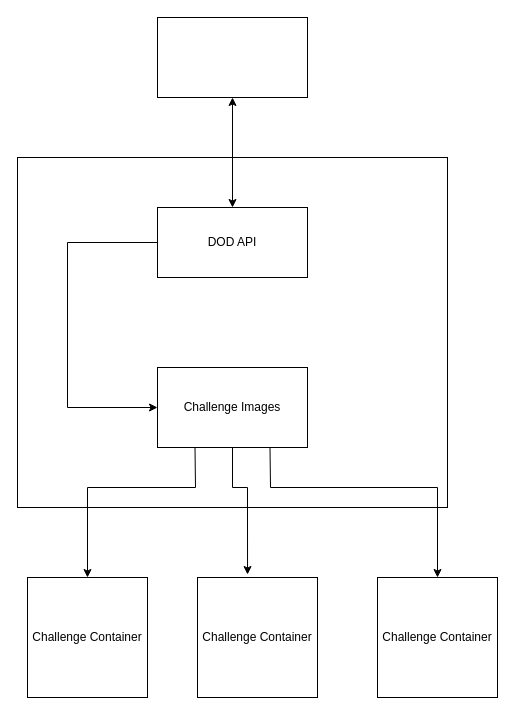
Some shapes in this 515 by 715 pixel diagram are drawn without their labels. The shapes that lost their labels are listed below. From the top down, each one's box as (x1, y1, x2, y2) in pixels, then its label:
(156, 16, 308, 98): Instancer Interface
(16, 156, 448, 508): INTERNAL NETWORK
